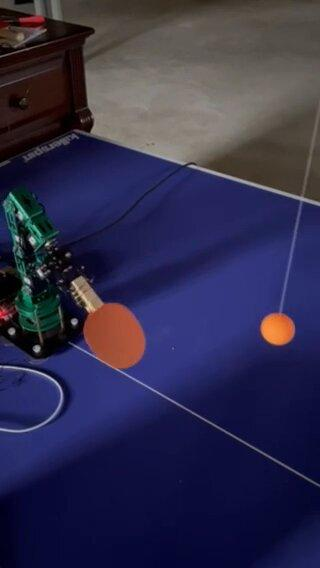oball: (261, 312, 292, 344)
